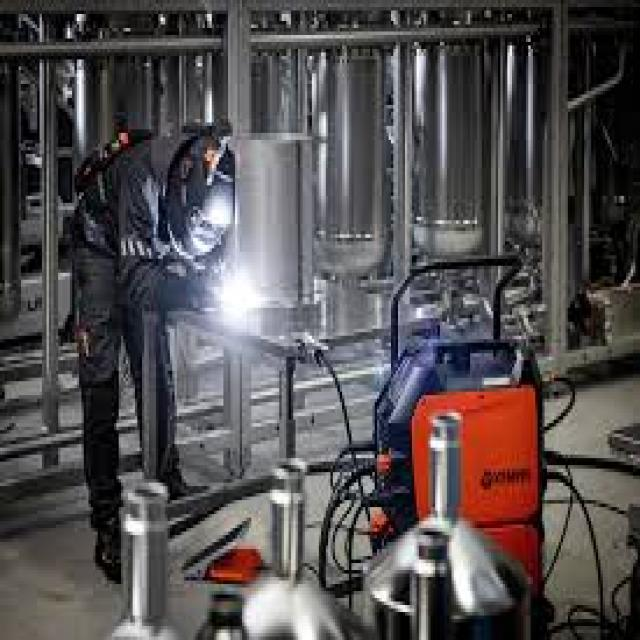welding: (226, 267, 258, 317)
